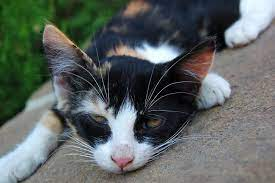cat: (7, 5, 240, 182)
